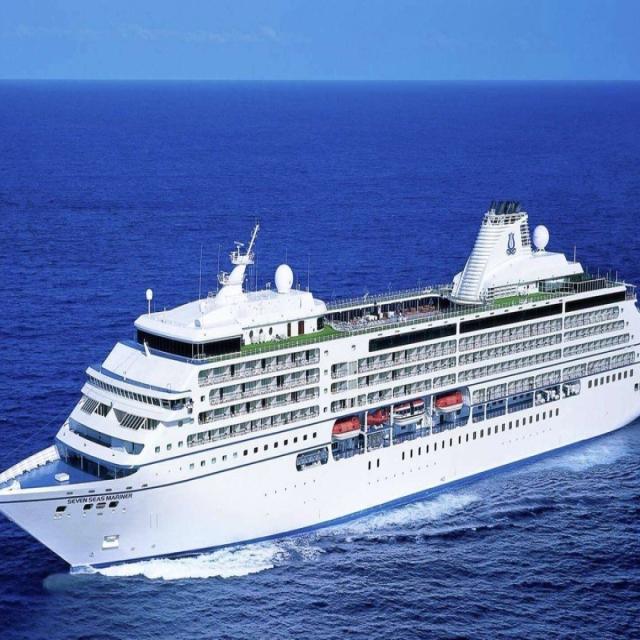passenger ship: (0, 202, 640, 562)
